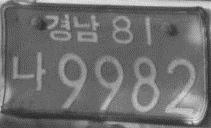1: (142, 13, 154, 47)
2: (162, 57, 197, 117)
8: (130, 55, 160, 113), (110, 13, 133, 46)
9: (91, 53, 125, 112), (56, 50, 88, 110)
경남_O: (43, 12, 101, 44)
나: (10, 50, 48, 92)
